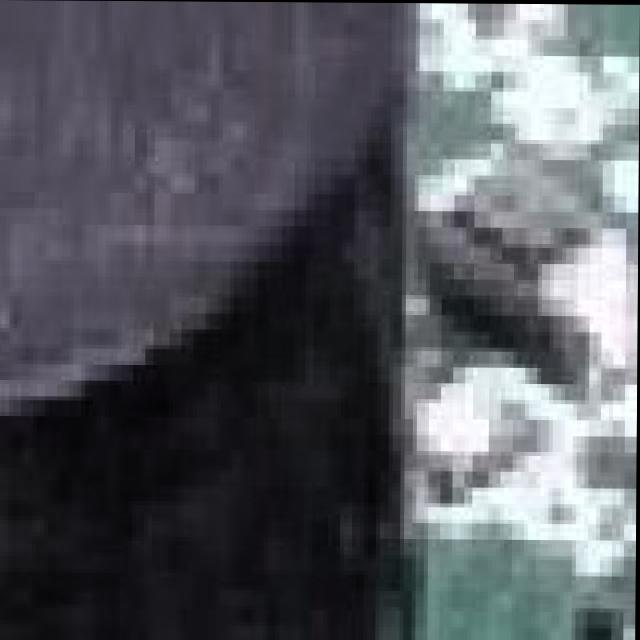buzzer: (0, 0, 452, 640)
